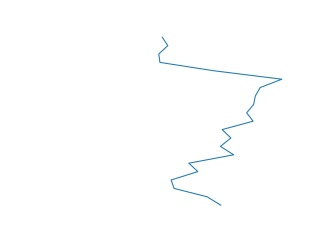floodPlain: (157, 34, 284, 207)
